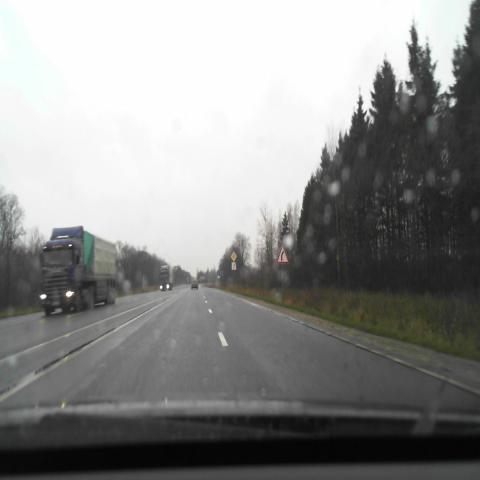1_11_1: (276, 242, 289, 264)
